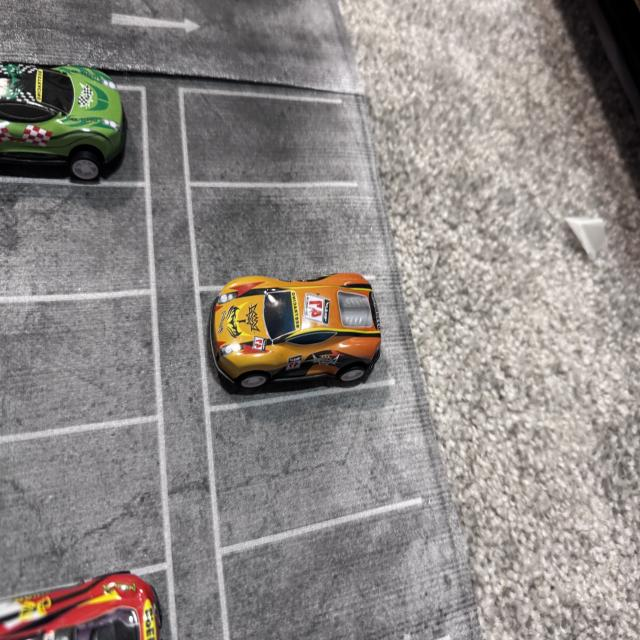car: (174, 204, 432, 442), (0, 57, 145, 192), (0, 539, 185, 640)
